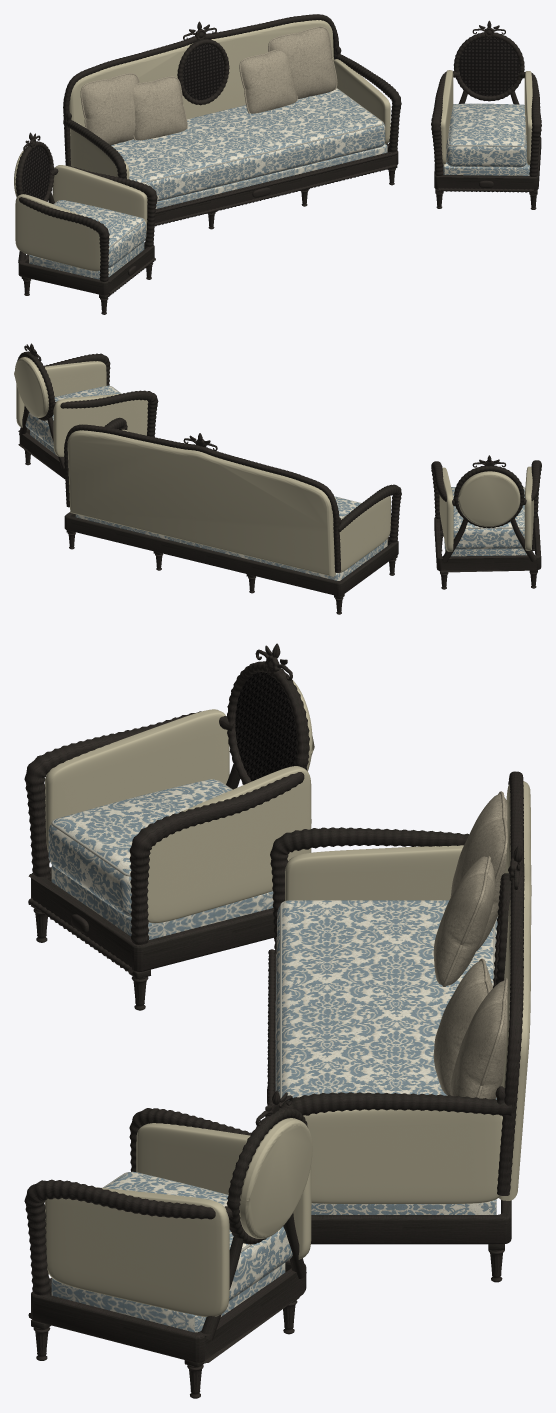
3 views of the same model, one above another, from view 1: azimuth 30°, elevation 25°; view 2: azimuth 150°, elevation 25°; view 3: azimuth 270°, elevation 25° (orthographic). The views are drawn at different scales.
Bounding box in the file's own units: 4.03 × 1.13 × 1.7.
7 materials, 7 textured.
